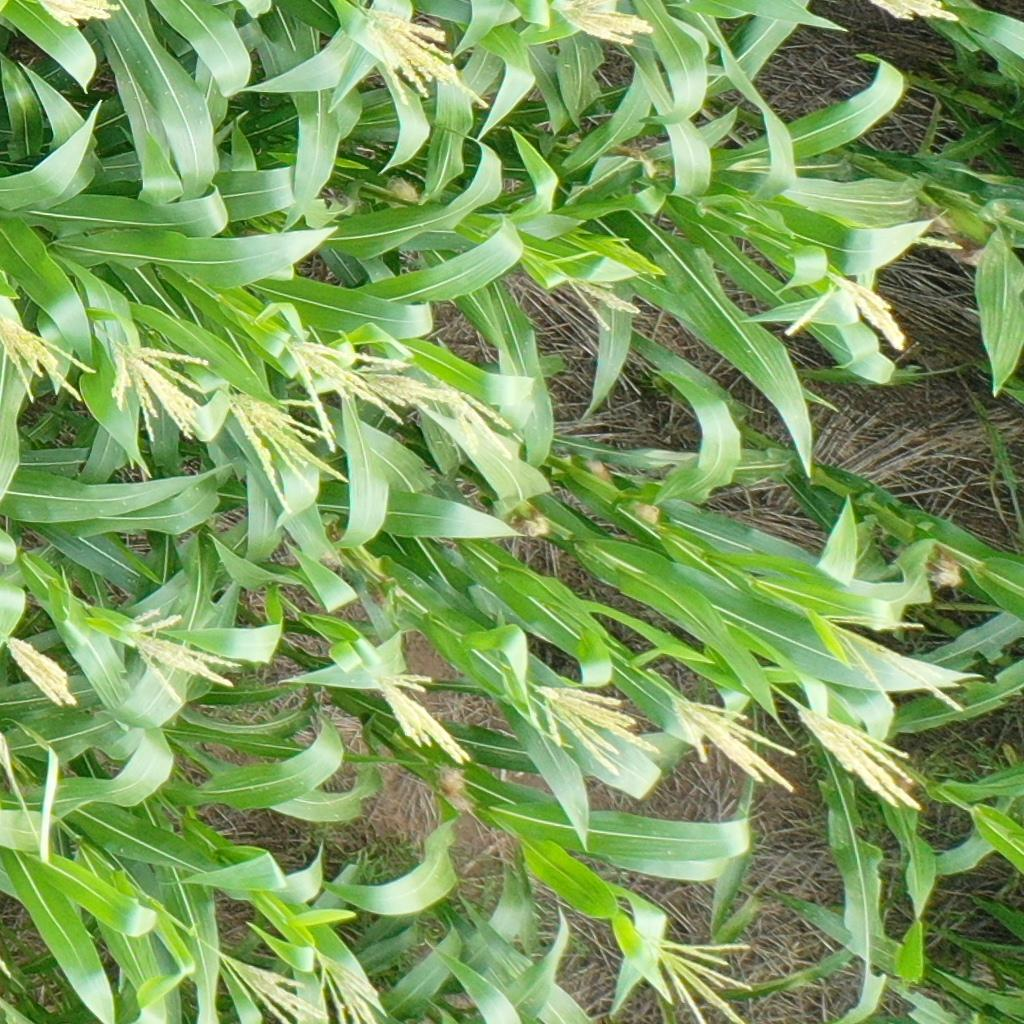Tassel: (815, 612, 967, 719), (226, 395, 348, 513), (358, 5, 491, 112), (798, 703, 922, 814), (284, 339, 404, 448), (668, 697, 798, 792), (534, 686, 661, 781), (103, 336, 213, 444), (120, 609, 241, 705), (782, 272, 912, 354), (643, 936, 754, 1024), (373, 672, 476, 764), (1, 313, 101, 404), (219, 956, 327, 1024), (433, 377, 516, 461), (545, 1, 659, 49), (5, 635, 80, 706), (315, 949, 383, 1024), (354, 364, 462, 409), (561, 274, 642, 331), (36, 1, 125, 30), (871, 1, 960, 22), (1, 730, 15, 776)
